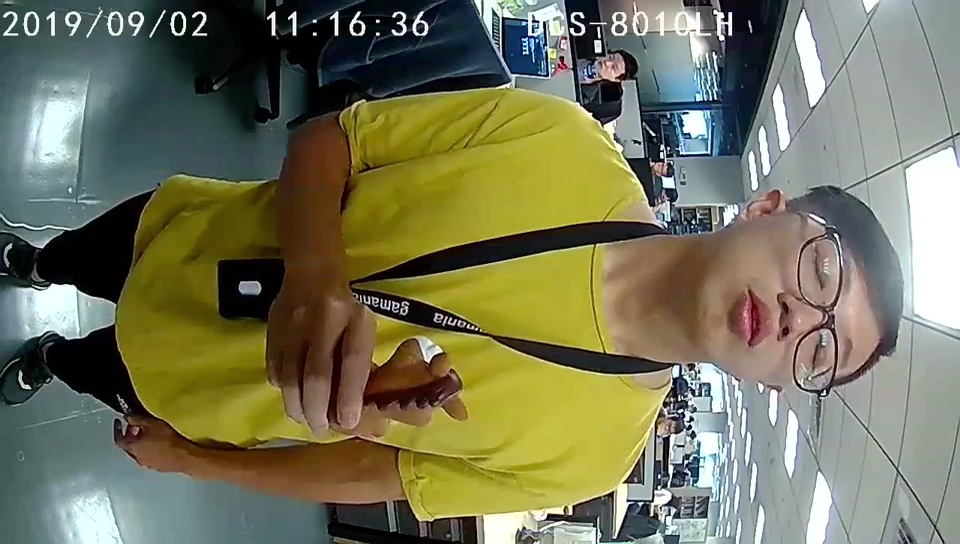horse: (365, 335, 468, 432)
